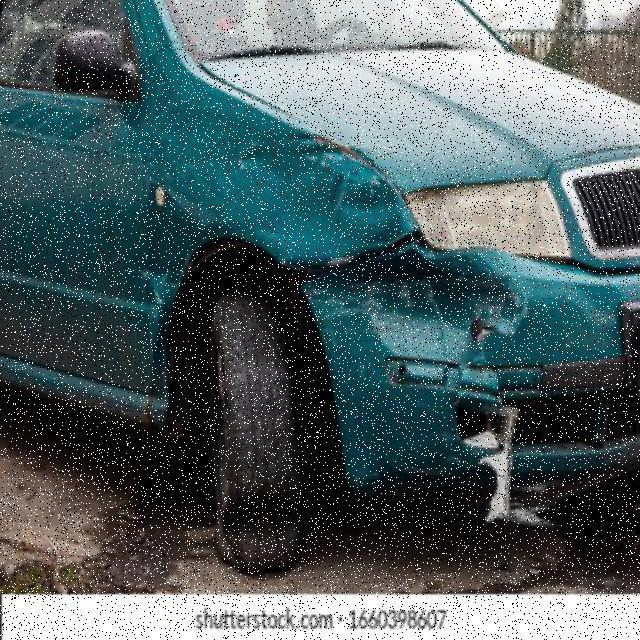car damage: (307, 229, 639, 497), (140, 110, 388, 266)
